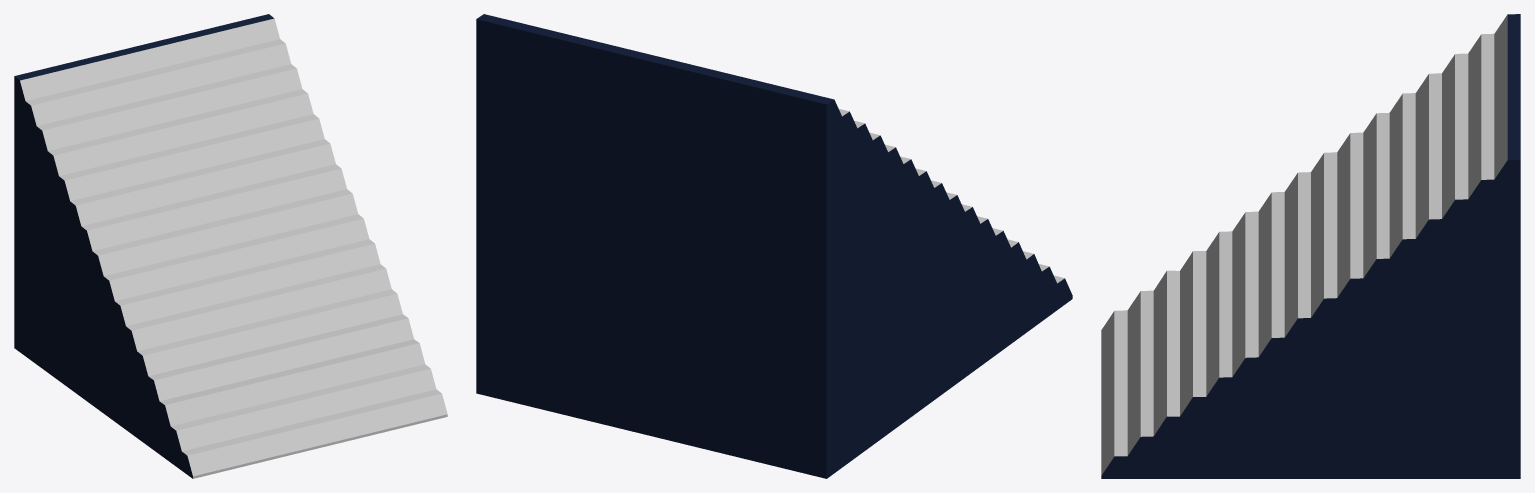
File: GradinOuvert.obj
The picture shows the model from 3 angles, left to right: view 1: azimuth 30°, elevation 25°; view 2: azimuth 150°, elevation 25°; view 3: azimuth 270°, elevation 25°; orthographic projection. The views are drawn at different scales.
Parts seen in each view (by area): view 1: Cube.005_Cube.008; view 2: Cube.005_Cube.008; view 3: Cube.005_Cube.008.
Part boxes in pixels (bbox=[...]): Cube.005_Cube.008: bbox=[14, 14, 447, 478]; Cube.005_Cube.008: bbox=[476, 14, 1072, 478]; Cube.005_Cube.008: bbox=[1101, 14, 1520, 478].
Size of the model in its own units: 4.23 by 4.32 by 5.14.
